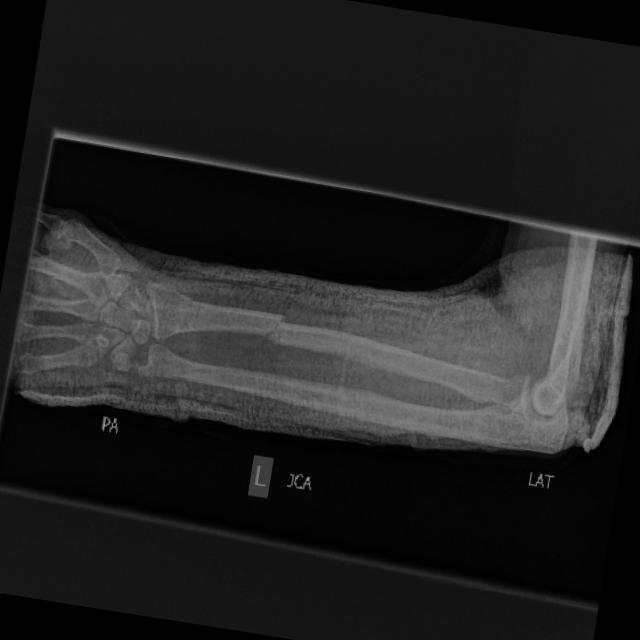forearm fracture: (234, 287, 341, 368)
